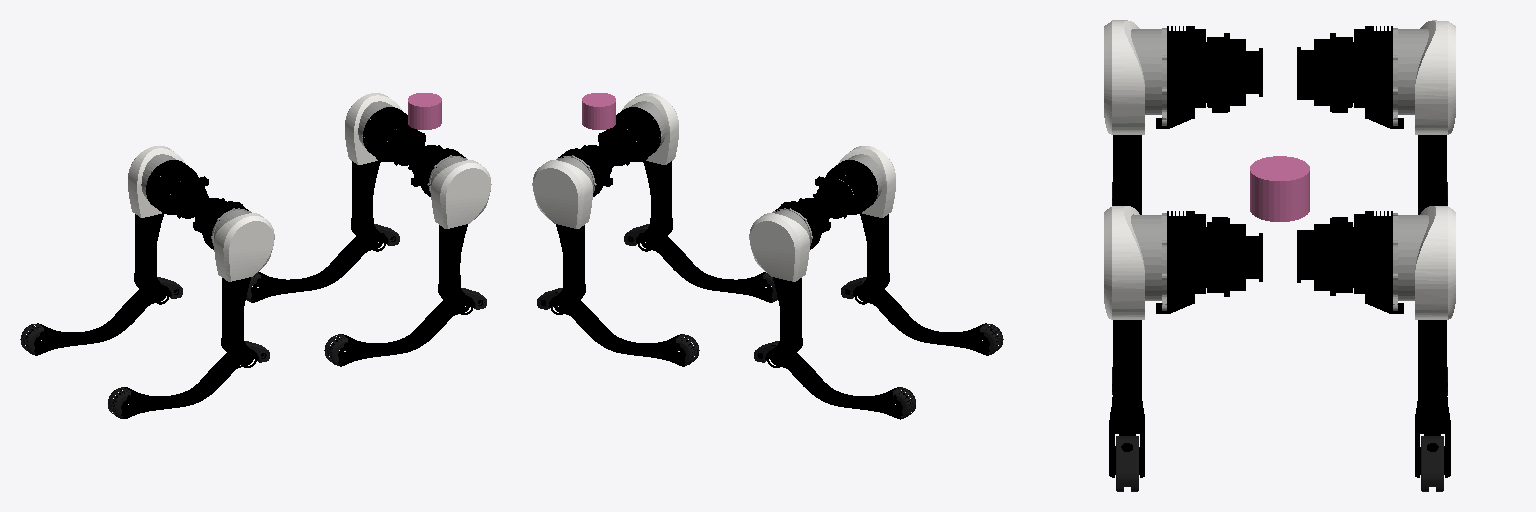
URDF robot description (JueyingL3):
<robot name="JueyingL3">
  <link name="dummy"></link>
  <joint name="dummy_joint" type="fixed">
    <parent link="dummy"/>
    <child link="urdf_link"/>
  </joint>
  <link name="urdf_link">
    <inertial>
      <origin xyz="0.005 0.000413 0.004" />
      <mass value="26.398" />
      <inertia ixx="0.1632" ixy="-5.2136E-05" ixz="-0.00019406" iyy="0.40648" iyz="8.2679E-05" izz="0.52596" />
    </inertial>
    <visual>
      <geometry>
        <mesh filename="package://lite3/Lite3/meshes/Torso.dae" />
      </geometry>
    </visual>
    <collision>
      <geometry>
        <box size="0.46 0.26 0.15"/>
      </geometry>
    </collision>
  </link>
  <link name="FL_HIP">
    <inertial>
      <origin xyz="-0.00075689 -0.0089129 -5.0528E-05" />
      <mass value="1.5767" />
      <inertia ixx="0.0012141" ixy="6.1989E-06" ixz="2.8652E-06" iyy="0.0016912" iyz="3.7E-06" izz="0.0013431" />
    </inertial>
    <visual>
      <geometry>
        <mesh filename="package://lite3/Lite3/meshes/FL_Hip.dae" />
      </geometry>
    </visual>
  </link>
  <joint name="LF_Joint" type="revolute">
    <origin xyz="0.292 0.08 0" />
    <parent link="urdf_link" />
    <child link="FL_HIP" />
    <axis xyz="1 0 0" />
    <limit lower="-0.523" upper="0.261" effort="30" velocity="20" />
  </joint>
  <link name="FL_THIGH">
    <inertial>
      <origin xyz="-0.0025264 -0.022118 -0.0292" />
      <mass value="3.0063" />
      <inertia ixx="0.0058102" ixy="4.2848E-05" ixz="-3.0437E-06" iyy="0.0080686" iyz="-6.889E-05" izz="0.003874" />
    </inertial>
    <visual>
      <geometry>
        <mesh filename="package://lite3/Lite3/meshes/L_Thigh.dae" />
      </geometry>
    </visual>
    <collision>
      <origin xyz="0 0 -0.13" />
      <geometry>
        <cylinder length="0.25" radius="0.04"/>
      </geometry>
    </collision>
  </link>
  <joint name="LF_Joint_1" type="revolute">
    <origin xyz="0 0.12325 0" />
    <parent link="FL_HIP" />
    <child link="FL_THIGH" />
    <axis xyz="0 1 0" />
    <limit lower="-2.53" upper="0.35" effort="40" velocity="20" />
  </joint>
  <link name="FL_SHANK">
    <inertial>
      <origin xyz="0.0075224 2.5888E-05 -0.17586" />
      <mass value="0.54849" />
      <inertia ixx="0.0057" ixy="1.16E-07" ixz="0.000153" iyy="0.006" iyz="-1.12E-06" izz="0.00029" />
    </inertial>
    <visual>
      <geometry>
        <mesh filename="package://lite3/Lite3/meshes/Shank.dae" />
      </geometry>
    </visual>
    <collision>
      <origin xyz="0.00 0 -0.33" />
      <geometry>
        <sphere radius="0.036"/>
      </geometry>
    </collision>
  </link>
  <joint name="LF_Joint_2" type="revolute">
    <origin xyz="0 0 -0.3" />
    <parent link="FL_THIGH" />
    <child link="FL_SHANK" />
    <axis xyz="0 1 0" />
    <limit lower="0.35" upper="2.53" effort="60" velocity="20" />
  </joint>
  <link name="FR_HIP">
    <inertial>
      <origin xyz="-0.000757 0.009 5.0528E-05" />
      <mass value="1.5767" />
      <inertia ixx="0.0012141" ixy="-6.1989E-06" ixz="-2.8652E-06" iyy="0.0016912" iyz="3.7E-06" izz="0.0013431" />
    </inertial>
    <visual>
      <geometry>
        <mesh filename="package://lite3/Lite3/meshes/FR_Hip.dae" />
      </geometry>
    </visual>
  </link>
  <joint name="RF_Joint" type="revolute">
    <origin xyz="0.292 -0.08 0" />
    <parent link="urdf_link" />
    <child link="FR_HIP" />
    <axis xyz="-1 0 0" />
    <limit lower="-0.523" upper="0.261" effort="30" velocity="20" />
  </joint>
  <link name="FR_THIGH">
    <inertial>
      <origin xyz="-0.0025266 0.022119 -0.029194" />
      <mass value="3.0062" />
      <inertia ixx="0.00581" ixy="-4.2781E-05" ixz="-3.0682E-06" iyy="0.0080684" iyz="6.8812E-05" izz="0.0038739" />
    </inertial>
    <visual>
      <geometry>
        <mesh filename="package://lite3/Lite3/meshes/R_Thigh.dae" />
      </geometry>
    </visual>
    <collision>
      <origin xyz="0 0 -0.13" />
      <geometry>
        <cylinder length="0.25" radius="0.04"/>
      </geometry>
    </collision>
  </link>
  <joint name="RF_Joint_1" type="revolute">
    <origin xyz="0 -0.12325 0" />
    <parent link="FR_HIP" />
    <child link="FR_THIGH" />
    <axis xyz="0 1 0" />
    <limit lower="-2.53" upper="0.35" effort="40" velocity="20" />
  </joint>
  <link name="FR_SHANK">
    <inertial>
      <origin xyz="0.0075224 2.5888E-05 -0.17586" />
      <mass value="0.54849" />
      <inertia ixx="0.0057" ixy="1.16E-07" ixz="0.000153" iyy="0.006" iyz="-1.12E-06" izz="0.00029" />
    </inertial>
    <visual>
      <geometry>
        <mesh filename="package://lite3/Lite3/meshes/Shank.dae" />
      </geometry>
    </visual>
    <collision>
      <origin xyz="0.00 0 -0.33" />
      <geometry>
        <sphere radius="0.036"/>
      </geometry>
    </collision>
  </link>
  <joint name="RF_Joint_2" type="revolute">
    <origin xyz="0 0 -0.3" />
    <parent link="FR_THIGH" />
    <child link="FR_SHANK" />
    <axis xyz="0 1 0" />
    <limit lower="0.35" upper="2.53" effort="60" velocity="20" />
  </joint>
  <link name="HL_HIP">
    <inertial>
      <origin xyz="0.000757 -0.009 5.053E-05" />
      <mass value="1.5767" />
      <inertia ixx="0.00121" ixy="-6.2E-06" ixz="2.9E-06" iyy="0.0017" iyz="-3.7E-06" izz="0.00134" />
    </inertial>
    <visual>
      <geometry>
        <mesh filename="package://lite3/Lite3/meshes/HL_Hip.dae" />
      </geometry>
    </visual>
  </link>
  <joint name="LB_Joint" type="revolute">
    <origin xyz="-0.292 0.08 0" />
    <parent link="urdf_link" />
    <child link="HL_HIP" />
    <axis xyz="1 0 0" />
    <limit lower="-0.523" upper="0.261" effort="30" velocity="20" />
  </joint>
  <link name="HL_THIGH">
    <inertial>
      <origin xyz="-0.0025264 -0.022118 -0.0292" />
      <mass value="3.0063" />
      <inertia ixx="0.0058102" ixy="4.2848E-05" ixz="-3.0433E-06" iyy="0.008" iyz="-6.8889E-05" izz="0.003874" />
    </inertial>
    <visual>
      <geometry>
        <mesh filename="package://lite3/Lite3/meshes/L_Thigh.dae" />
      </geometry>
    </visual>
    <collision>
      <origin xyz="0 0 -0.13" />
      <geometry>
        <cylinder length="0.25" radius="0.04"/>
      </geometry>
    </collision>
  </link>
  <joint name="LB_Joint_1" type="revolute">
    <origin xyz="0 0.12325 0" />
    <parent link="HL_HIP" />
    <child link="HL_THIGH" />
    <axis xyz="0 1 0" />
    <limit lower="-2.53" upper="0.35" effort="40" velocity="20" />
  </joint>
  <link name="HL_SHANK">
    <inertial>
      <origin xyz="0.0075224 2.5888E-05 -0.17586" />
      <mass value="0.54849" />
      <inertia ixx="0.0057" ixy="1.16E-07" ixz="0.000153" iyy="0.006" iyz="-1.12E-06" izz="0.00029" />
    </inertial>
    <visual>
      <geometry>
        <mesh filename="package://lite3/Lite3/meshes/Shank.dae" />
      </geometry>
    </visual>
    <collision>
      <origin xyz="0.00 0 -0.33" />
      <geometry>
        <sphere radius="0.036"/>
      </geometry>
    </collision>
  </link>
  <joint name="LB_Joint_2" type="revolute">
    <origin xyz="0 0 -0.3" />
    <parent link="HL_THIGH" />
    <child link="HL_SHANK" />
    <axis xyz="0 1 0" />
    <limit lower="0.35" upper="2.53" effort="60" velocity="20" />
  </joint>
  <link name="HR_HIP">
    <inertial>
      <origin xyz="0.00075689 0.0089129 -5.0528E-05" />
      <mass value="1.5767" />
      <inertia ixx="0.0012141" ixy="6.1989E-06" ixz="-2.8652E-06" iyy="0.0016912" iyz="-3.7E-06" izz="0.0013431" />
    </inertial>
    <visual>
      <geometry>
        <mesh filename="package://lite3/Lite3/meshes/HR_Hip.dae" />
      </geometry>
    </visual>
  </link>
  <joint name="RB_Joint" type="revolute">
    <origin xyz="-0.292 -0.08 0" />
    <parent link="urdf_link" />
    <child link="HR_HIP" />
    <axis xyz="-1 0 0" />
    <limit lower="-0.523" upper="0.261" effort="30" velocity="20" />
  </joint>
  <link name="HR_THIGH">
    <inertial>
      <origin xyz="-0.0025266 0.022119 -0.029194" />
      <mass value="3.0062" />
      <inertia ixx="0.00581" ixy="-4.2781E-05" ixz="-3.0681E-06" iyy="0.0080684" iyz="6.8812E-05" izz="0.0038739" />
    </inertial>
    <visual>
      <geometry>
        <mesh filename="package://lite3/Lite3/meshes/R_Thigh.dae" />
      </geometry>
    </visual>
    <collision>
      <origin xyz="0 0 -0.13" />
      <geometry>
        <cylinder length="0.25" radius="0.04"/>
      </geometry>
    </collision>
  </link>
  <joint name="RB_Joint_1" type="revolute">
    <origin xyz="0 -0.12325 0" />
    <parent link="HR_HIP" />
    <child link="HR_THIGH" />
    <axis xyz="0 1 0" />
    <limit lower="-2.53" upper="0.35" effort="40" velocity="20" />
  </joint>
  <link name="HR_SHANK">
    <inertial>
      <origin xyz="0.0075224 2.589E-05 -0.17586" />
      <mass value="0.54849" />
      <inertia ixx="0.0056981" ixy="1.1608E-07" ixz="0.00015292" iyy="0.0059026" iyz="-1.1243E-06" izz="0.00028822" />
    </inertial>
    <visual>
      <geometry>
        <mesh filename="package://lite3/Lite3/meshes/Shank.dae" />
      </geometry>
    </visual>
    <collision>
      <origin xyz="0.00 0 -0.33" />
      <geometry>
        <sphere radius="0.036"/>
      </geometry>
    </collision>
  </link>
  <joint name="RB_Joint_2" type="revolute">
    <origin xyz="0 0 -0.3" />
    <parent link="HR_THIGH" />
    <child link="HR_SHANK" />
    <axis xyz="0 1 0" />
    <limit lower="0.35" upper="2.53" effort="60" velocity="20" />
  </joint>
  <link name="Lidar">
    <inertial>
      <origin xyz="-0.30507 0.00041299 -0.074912" />
      <mass value="0.01" />
      <inertia ixx="0.1632" ixy="-5.2136E-05" ixz="-0.00019406" iyy="0.40648" iyz="8.2679E-05" izz="0.52596" />
    </inertial>
    <visual>
      <origin xyz="0 0 0.03" />
      <geometry>
        <cylinder length="0.06" radius="0.04"/>
      </geometry>
    </visual>
  </link>
  <joint name="Lidar_Joint" type="fixed">
    <origin xyz="0.31 0 0.079" />
    <parent link="urdf_link" />
    <child link="Lidar" />
  </joint>
</robot>

--- Facts derived from the render (not from the file) ---
3 views of the same robot in one strip: view 1: azimuth 30°, elevation 25°; view 2: azimuth 150°, elevation 25°; view 3: azimuth 270°, elevation 25° (orthographic).
Model JueyingL3 with 15 links and 14 joints (12 revolute, 2 fixed), rooted at dummy, posed joints at zero except 4 at the middle of their limits (LF_Joint_2 = 1.44, RF_Joint_2 = 1.44, LB_Joint_2 = 1.44, RB_Joint_2 = 1.44).
Visible links, largest first — view 1: HR_THIGH, FR_THIGH, HL_THIGH, FL_THIGH, FR_SHANK, HL_SHANK, HR_SHANK, FL_SHANK, HL_HIP, FL_HIP, Lidar, FR_HIP; view 2: HL_THIGH, FL_THIGH, HR_THIGH, FR_THIGH, FL_SHANK, HL_SHANK, HR_SHANK, FR_SHANK, HR_HIP, FR_HIP, Lidar, FL_HIP; view 3: FR_THIGH, FL_THIGH, HR_THIGH, HL_THIGH, HL_HIP, FL_HIP, FR_HIP, HR_HIP, Lidar, FL_SHANK, FR_SHANK.
Boxes of the visible links, left/top/right/bottom form: HR_THIGH: left=203, top=201, right=274, bottom=367; FR_THIGH: left=419, top=148, right=491, bottom=314; HL_THIGH: left=128, top=146, right=198, bottom=304; FL_THIGH: left=345, top=93, right=407, bottom=251; FR_SHANK: left=324, top=288, right=486, bottom=366; HL_SHANK: left=20, top=277, right=182, bottom=355; HR_SHANK: left=108, top=341, right=269, bottom=418; FL_SHANK: left=246, top=224, right=399, bottom=302; HL_HIP: left=159, top=174, right=208, bottom=218; FL_HIP: left=376, top=122, right=425, bottom=165; Lidar: left=408, top=93, right=441, bottom=129; FR_HIP: left=408, top=145, right=442, bottom=186; HL_THIGH: left=749, top=201, right=820, bottom=367; FL_THIGH: left=532, top=148, right=604, bottom=314; HR_THIGH: left=825, top=146, right=895, bottom=304; FR_THIGH: left=616, top=93, right=678, bottom=251; FL_SHANK: left=537, top=288, right=699, bottom=366; HL_SHANK: left=754, top=341, right=915, bottom=419; HR_SHANK: left=841, top=277, right=1003, bottom=355; FR_SHANK: left=624, top=224, right=777, bottom=302; HR_HIP: left=813, top=174, right=864, bottom=218; FR_HIP: left=598, top=122, right=647, bottom=165; Lidar: left=582, top=93, right=615, bottom=129; FL_HIP: left=581, top=145, right=615, bottom=186; FR_THIGH: left=1104, top=206, right=1205, bottom=477; FL_THIGH: left=1354, top=206, right=1455, bottom=477; HR_THIGH: left=1104, top=20, right=1205, bottom=214; HL_THIGH: left=1354, top=20, right=1455, bottom=214; HL_HIP: left=1297, top=33, right=1356, bottom=112; FL_HIP: left=1297, top=217, right=1356, bottom=295; FR_HIP: left=1203, top=217, right=1262, bottom=296; HR_HIP: left=1203, top=33, right=1262, bottom=112; Lidar: left=1250, top=156, right=1309, bottom=221; FL_SHANK: left=1420, top=367, right=1447, bottom=491; FR_SHANK: left=1112, top=367, right=1139, bottom=491.
Bounding box of the posed robot: 1.02 × 0.47 × 0.5222 m (x, y, z).
12 mesh visuals loaded from 8 distinct referenced files (7 Collada DAE); not drawn: 1 (reference not matched to a file when rendering).
